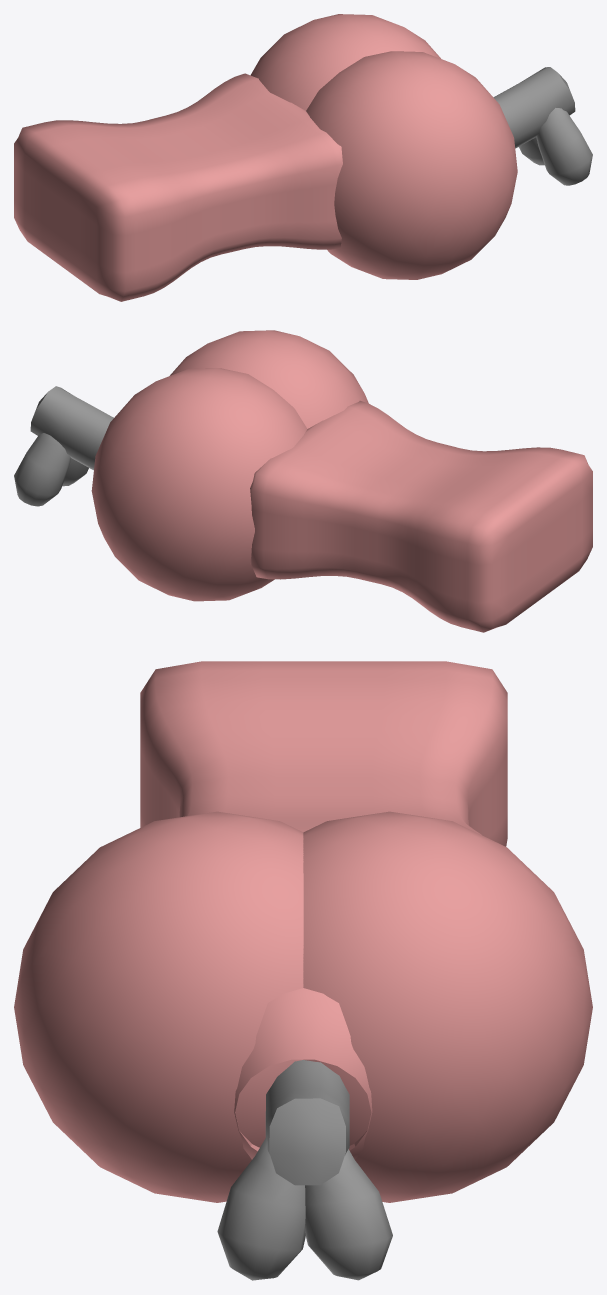
The model's file is dog.obj.
3 renders of one model, top to bottom at view 1: azimuth 30°, elevation 25°; view 2: azimuth 150°, elevation 25°; view 3: azimuth 270°, elevation 25°, orthographic. The views are drawn at different scales.
Parts seen in each view (by area): view 1: Box001, Object001; view 2: Box001, Object001; view 3: Box001, Object001.
Boxes of the visible parts, <box> form: Box001: <box>14,14,517,301</box>; Object001: <box>493,67,592,185</box>; Box001: <box>91,330,592,632</box>; Object001: <box>14,386,113,506</box>; Box001: <box>14,661,592,1202</box>; Object001: <box>217,1060,392,1280</box>.
Bounding box in the file's own units: 225 × 88.06 × 130.
